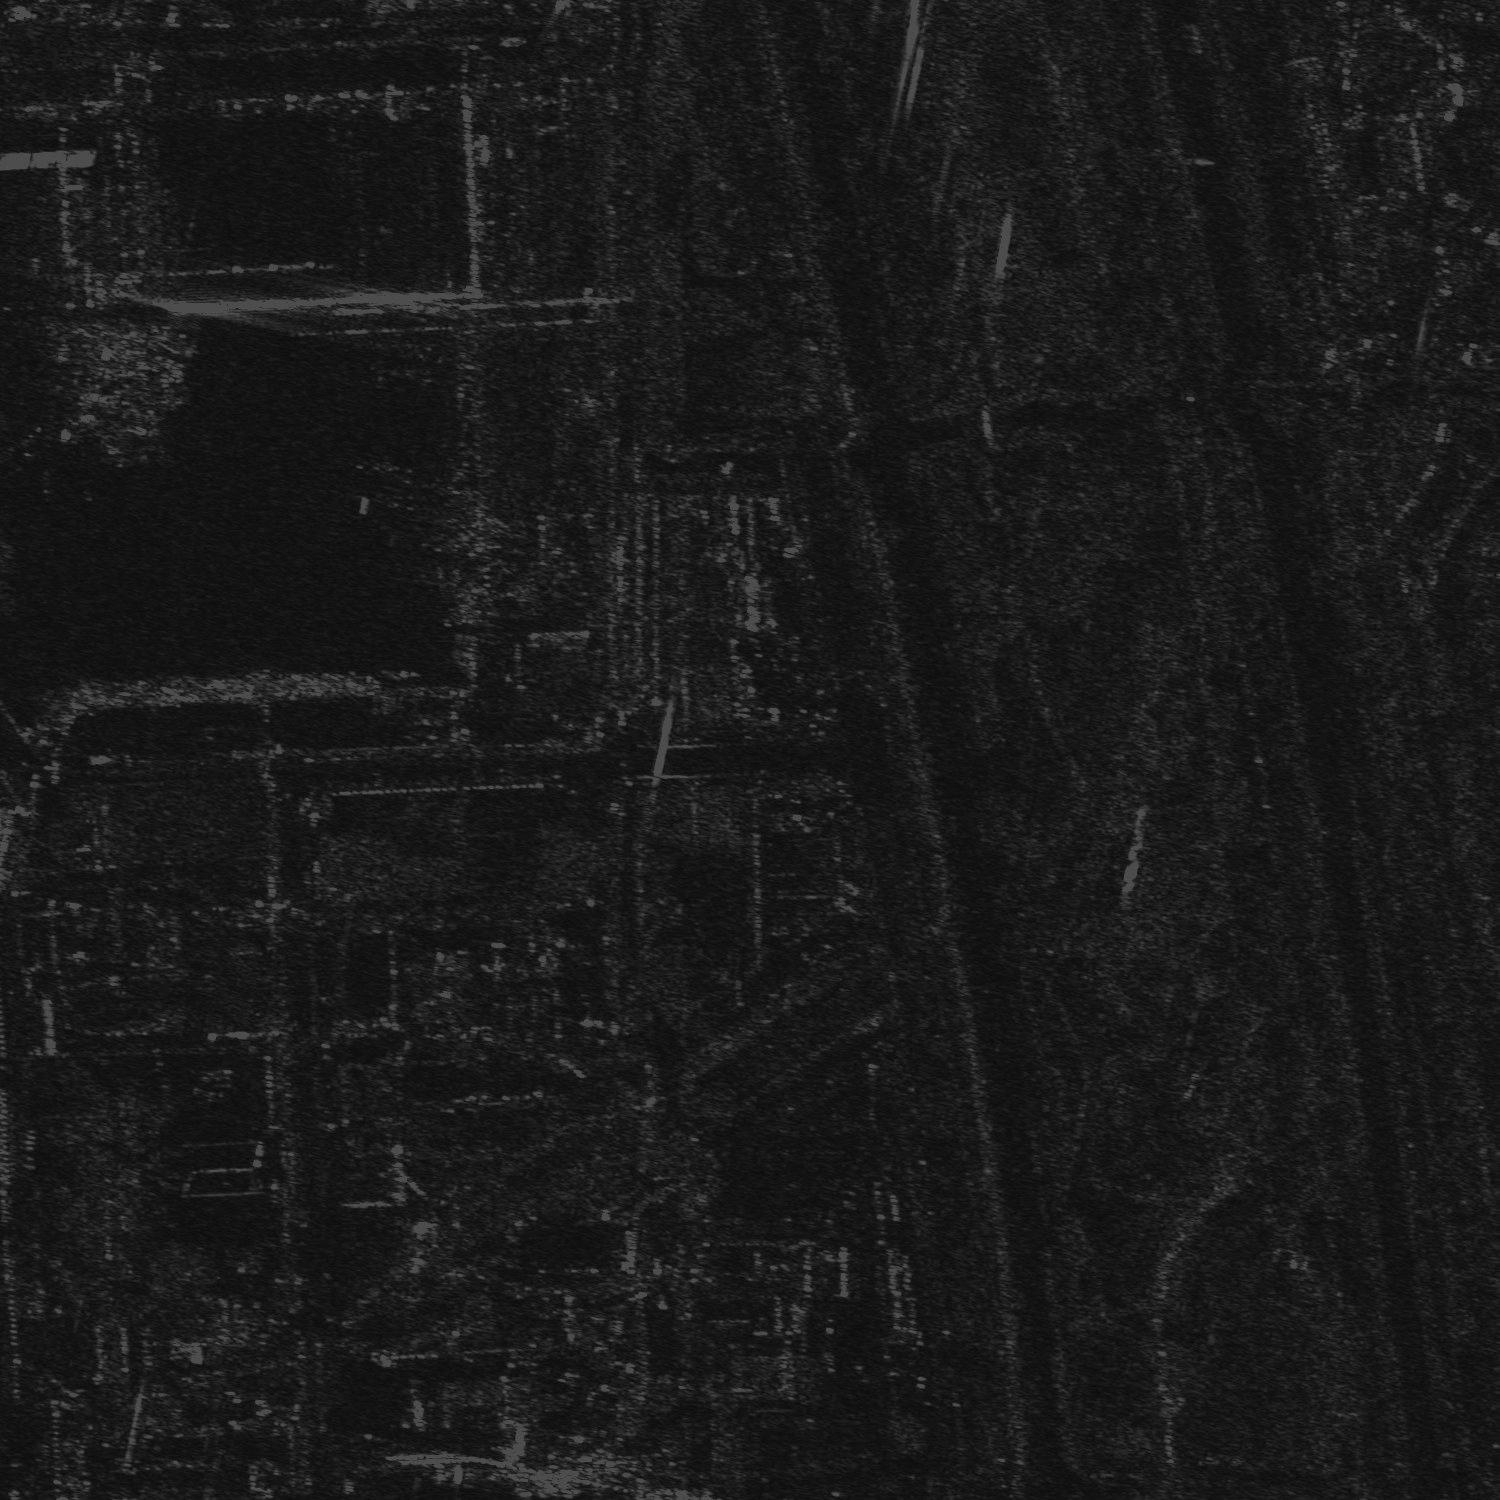A220: (354, 448, 419, 512)
